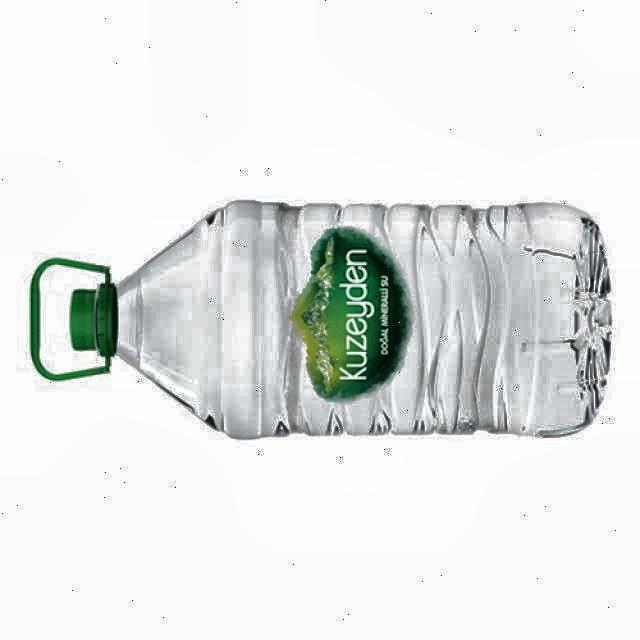plastic: (31, 201, 610, 438)
